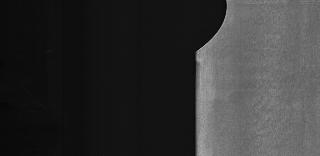welding line: (222, 0, 320, 10)
